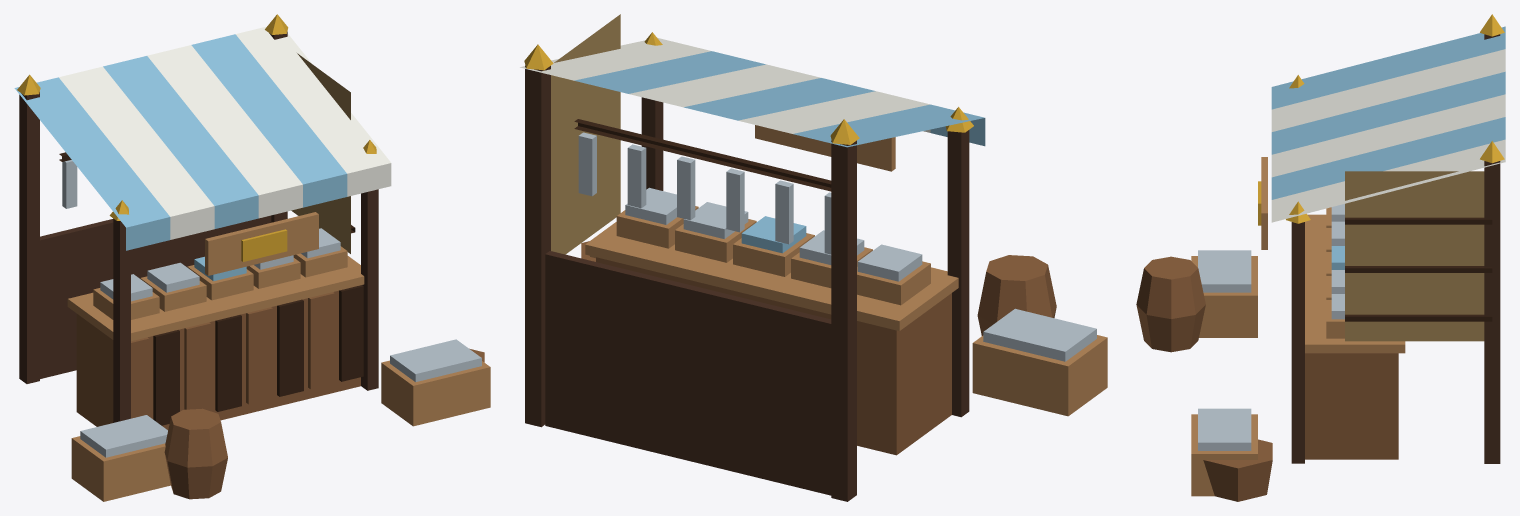
Rendered from stall_fish.fbx.
3 renders of one model, left to right at view 1: azimuth 30°, elevation 25°; view 2: azimuth 150°, elevation 25°; view 3: azimuth 270°, elevation 25°, orthographic. The views are drawn at different scales.
Parts seen in each view (by area): view 1: stall_fish; view 2: stall_fish; view 3: stall_fish.
Boxes of the visible parts, x1,y1,x2,y2 form: stall_fish: (14, 14, 490, 501); stall_fish: (520, 14, 1107, 501); stall_fish: (1136, 14, 1505, 501).
Size of the model in its own units: 3.65 by 2.64 by 2.76.
